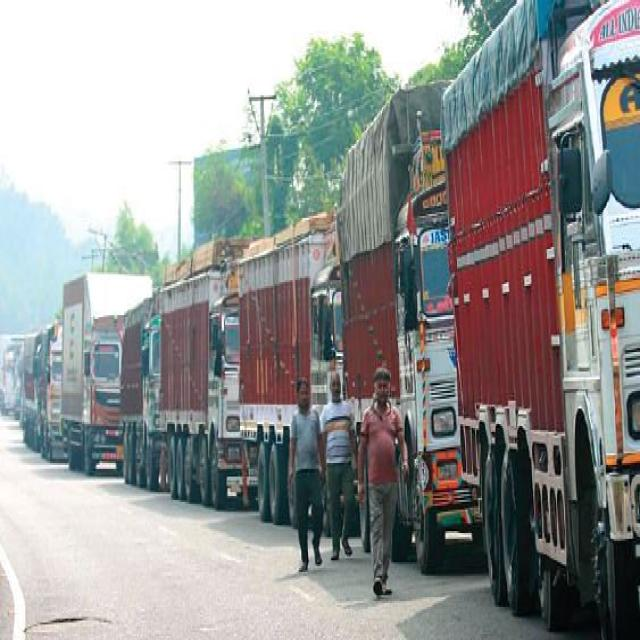truck: (442, 0, 640, 636), (339, 81, 480, 571), (238, 212, 342, 523), (160, 240, 247, 508), (62, 274, 151, 474), (120, 293, 161, 489)
